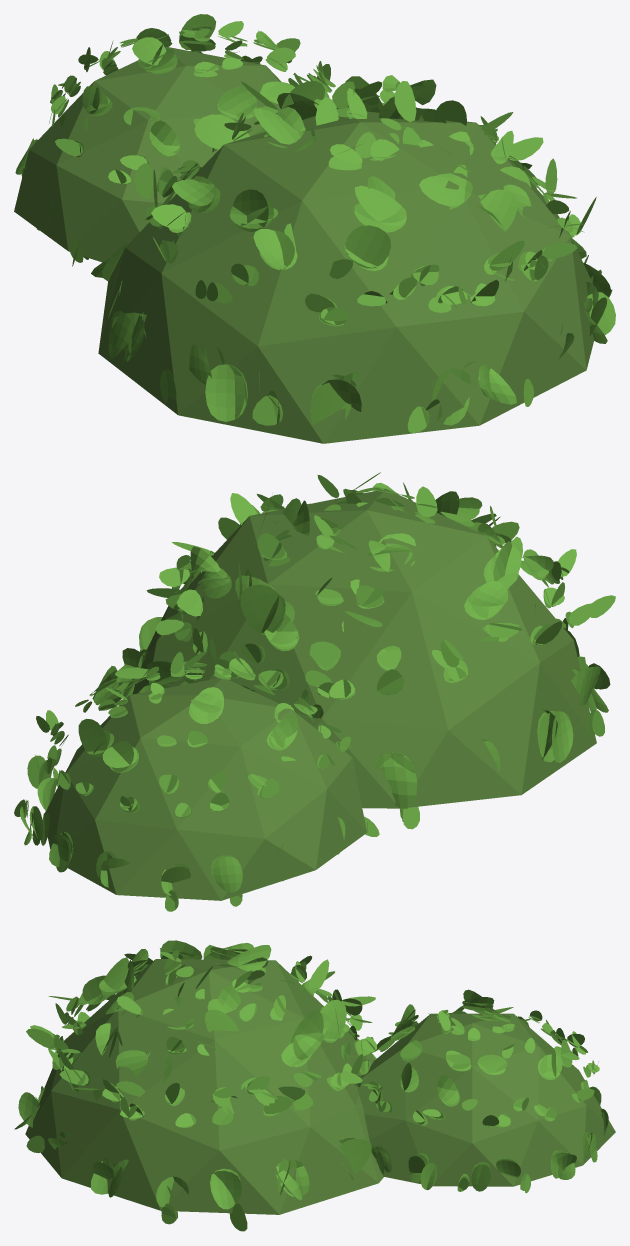
Rendered from Semak.fbx.
The picture shows the model from 3 angles, top to bottom: view 1: azimuth 30°, elevation 25°; view 2: azimuth 150°, elevation 25°; view 3: azimuth 270°, elevation 25°; orthographic projection. The views are drawn at different scales.
Visible parts, largest first — view 1: Icosphere, Cube.001, Cube.003; view 2: Icosphere, Cube.001, Cube.003; view 3: Icosphere, Cube.001, Cube.003.
Part boxes in pixels (x1,y1,x2,y2): Icosphere: (14,47,593,443); Cube.001: (91,75,615,433); Cube.003: (15,14,335,266); Icosphere: (44,489,596,900); Cube.001: (116,472,615,829); Cube.003: (14,651,379,911); Icosphere: (25,959,615,1214); Cube.001: (14,940,376,1231); Cube.003: (350,989,611,1193).
Size of the model in its own units: 311 by 165 by 453.
